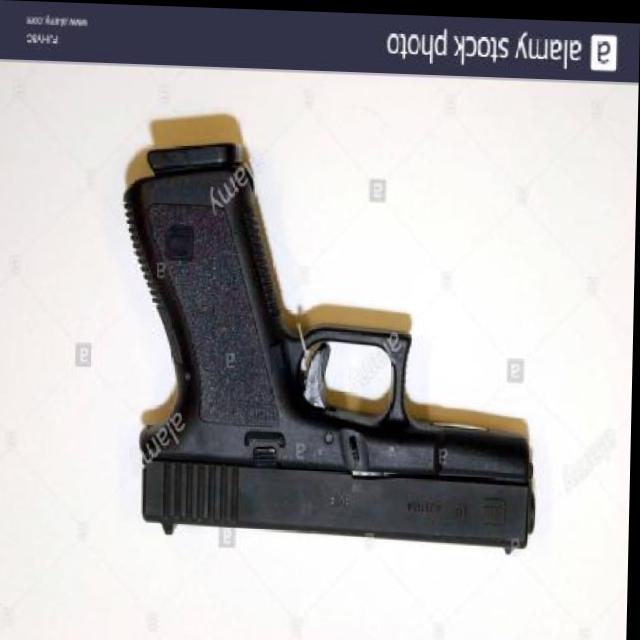handgun: (119, 109, 548, 551)
